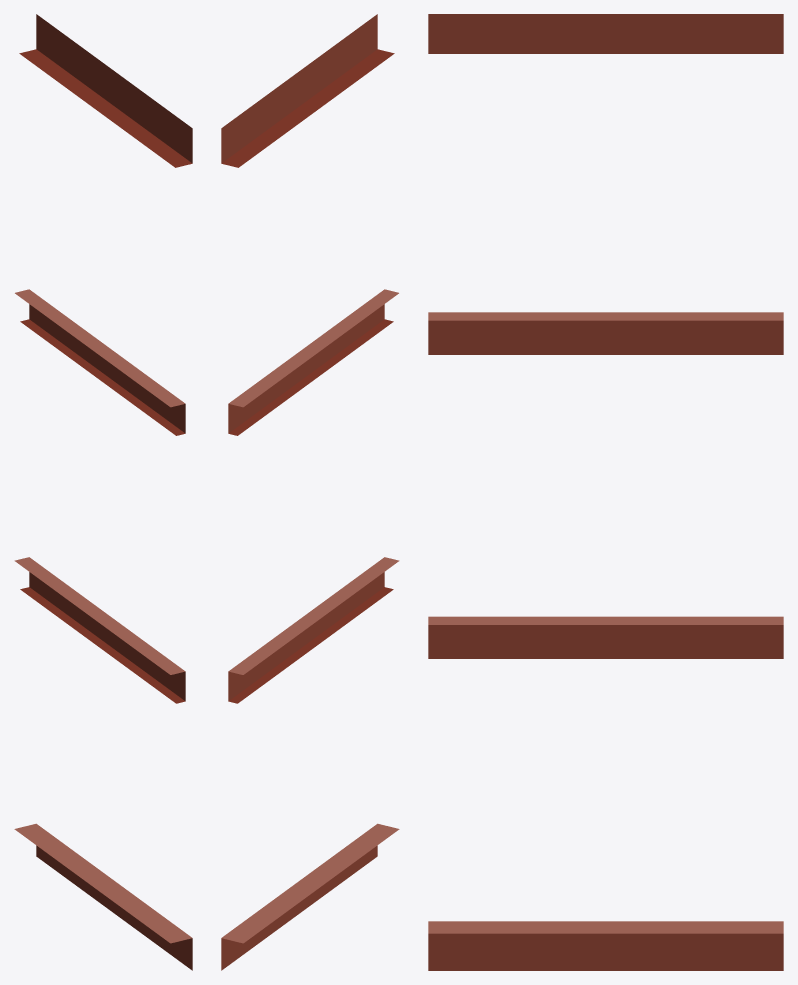
Rendered from red_brick_building_rows.fbx.
The picture shows the model from 3 angles, left to right: view 1: azimuth 30°, elevation 25°; view 2: azimuth 150°, elevation 25°; view 3: azimuth 270°, elevation 25°; orthographic projection. The views are drawn at different scales.
Visible parts, largest first — view 1: red_brick_building_rows; view 2: red_brick_building_rows; view 3: red_brick_building_rows.
Boxes of the visible parts, box(x1,y1,x2,y2) form: red_brick_building_rows: box(14, 14, 192, 970); red_brick_building_rows: box(221, 14, 399, 970); red_brick_building_rows: box(428, 14, 783, 970).
Size of the model in its own units: 27.91 by 1011 by 340.
